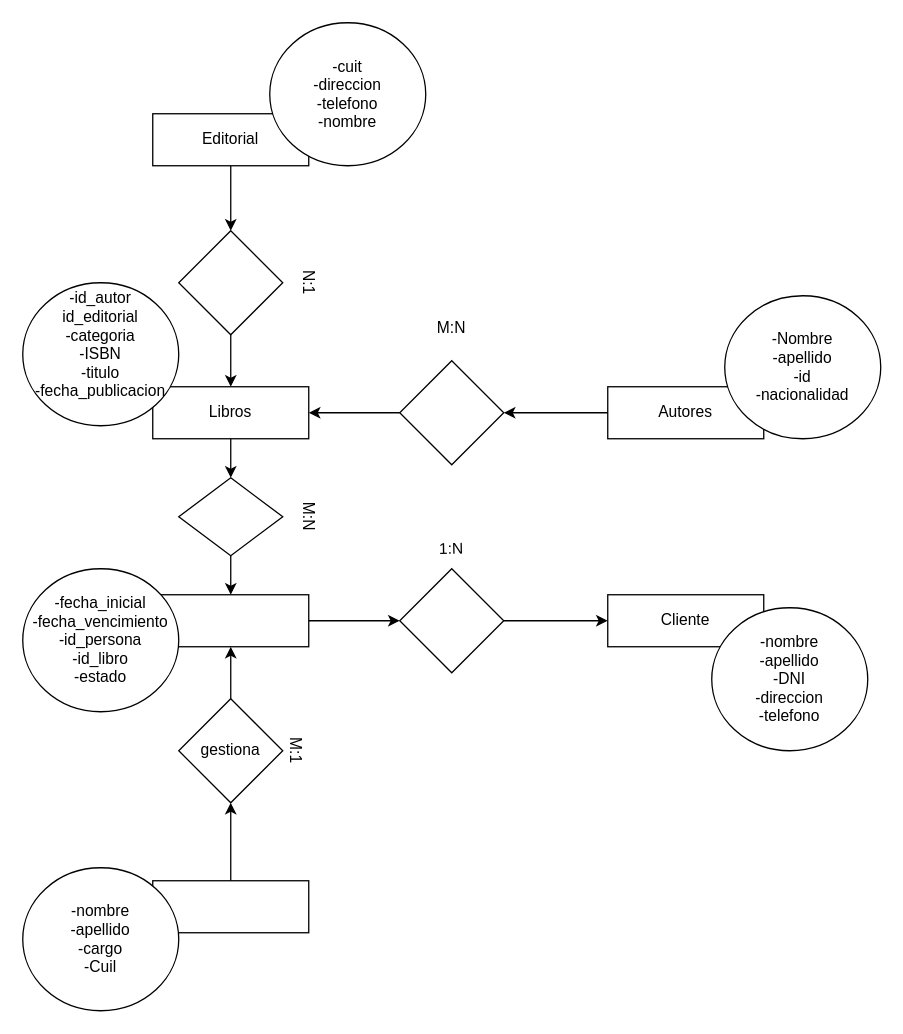
Image size: 903x1034. Some labels were removed from this diagram. Each missing label, with the centre of its shape:
"Bibliotecario" goes at point 230,906.
"escribe" goes at point 451,412.
"Prestamos" goes at point 230,620.
"publica" goes at point 230,282.
"recibe" goes at point 451,620.
"tiene" goes at point 230,516.
